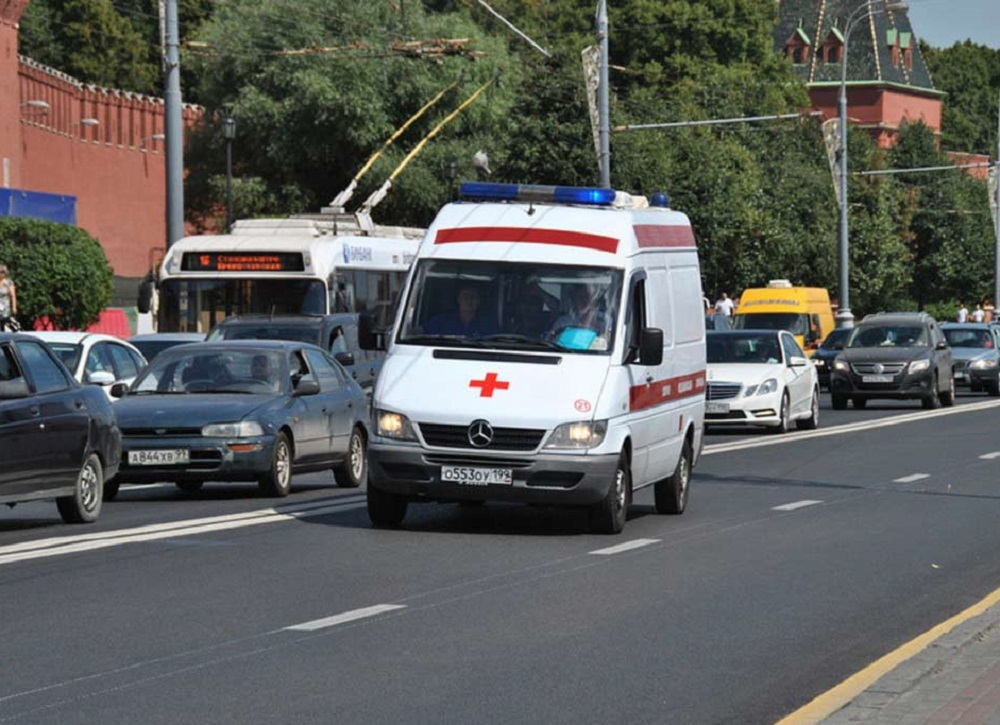passenger: (109, 343, 369, 505), (834, 314, 960, 414), (697, 330, 819, 432)
special: (366, 181, 703, 538)
